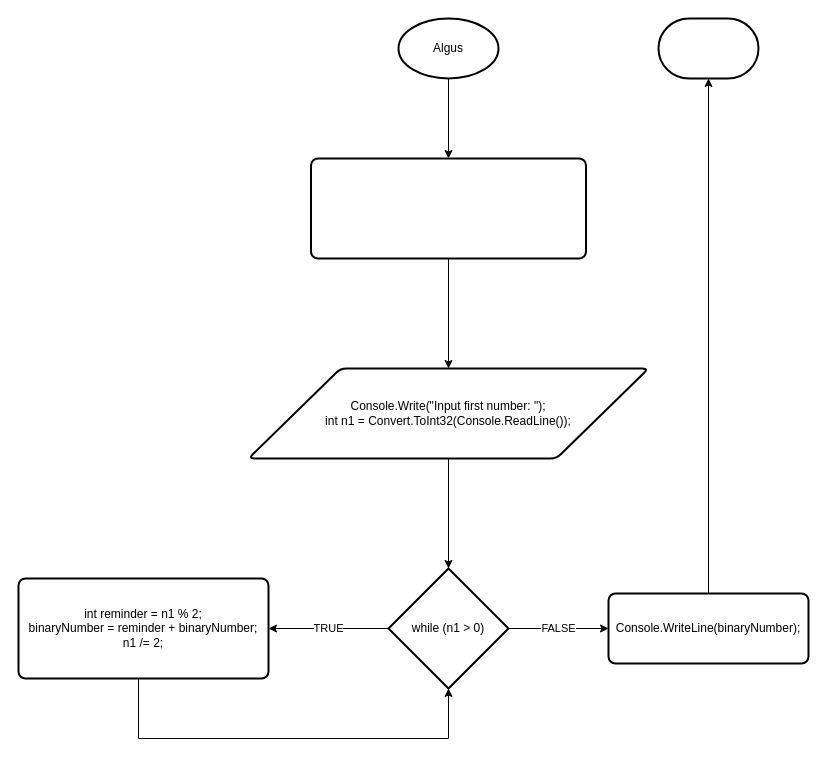
Image size: 826x764. Some labels were removed from this diagram. The shapes that lost their labels are listed below. From the top down, each one's box as (x1, y1, x2, y2) in pixels, then its label:
(657, 17, 759, 79): Lõpp
(310, 157, 586, 259): Console.WriteLine("Decimal to binary"); string binaryNumber = "";
